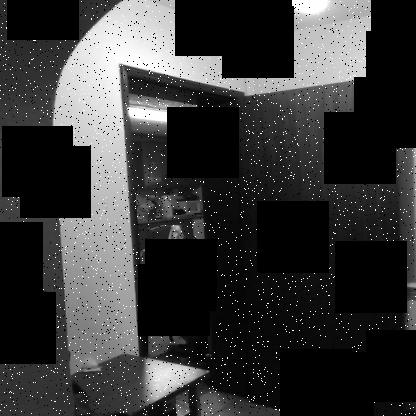Porte: (117, 58, 405, 415)
